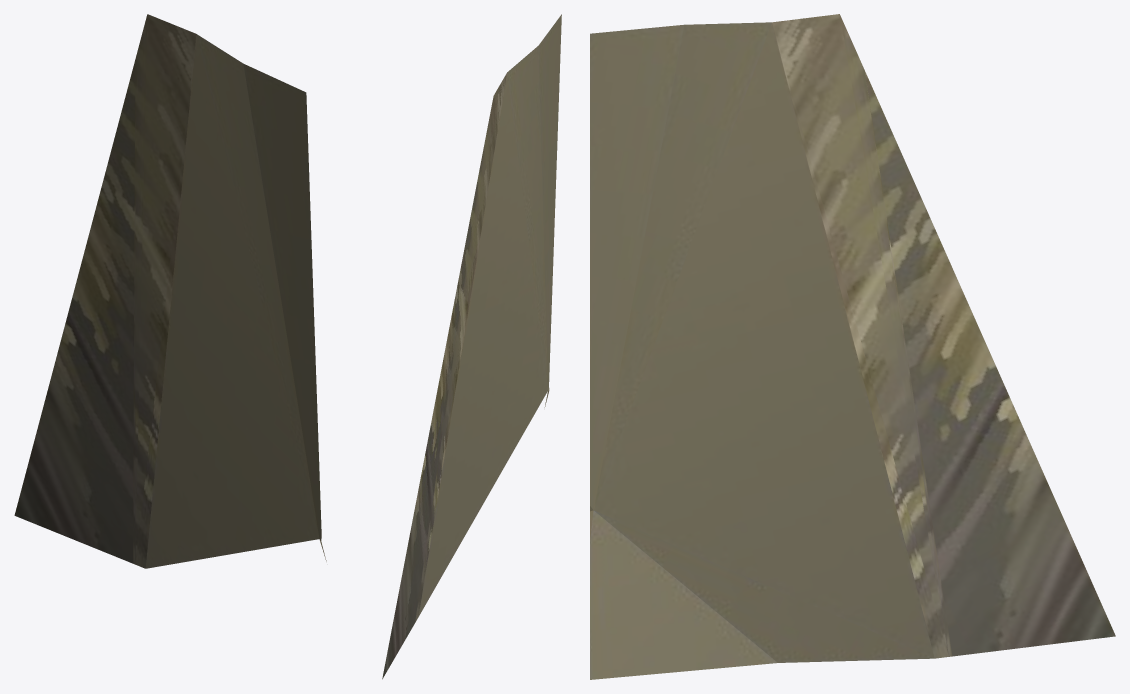
The picture shows the model from 3 angles, left to right: view 1: azimuth 30°, elevation 25°; view 2: azimuth 150°, elevation 25°; view 3: azimuth 270°, elevation 25°; orthographic projection. The views are drawn at different scales.
Bounding box in the file's own units: 0.4428 × 2.95 × 2.26.
2 materials, 2 textured.
